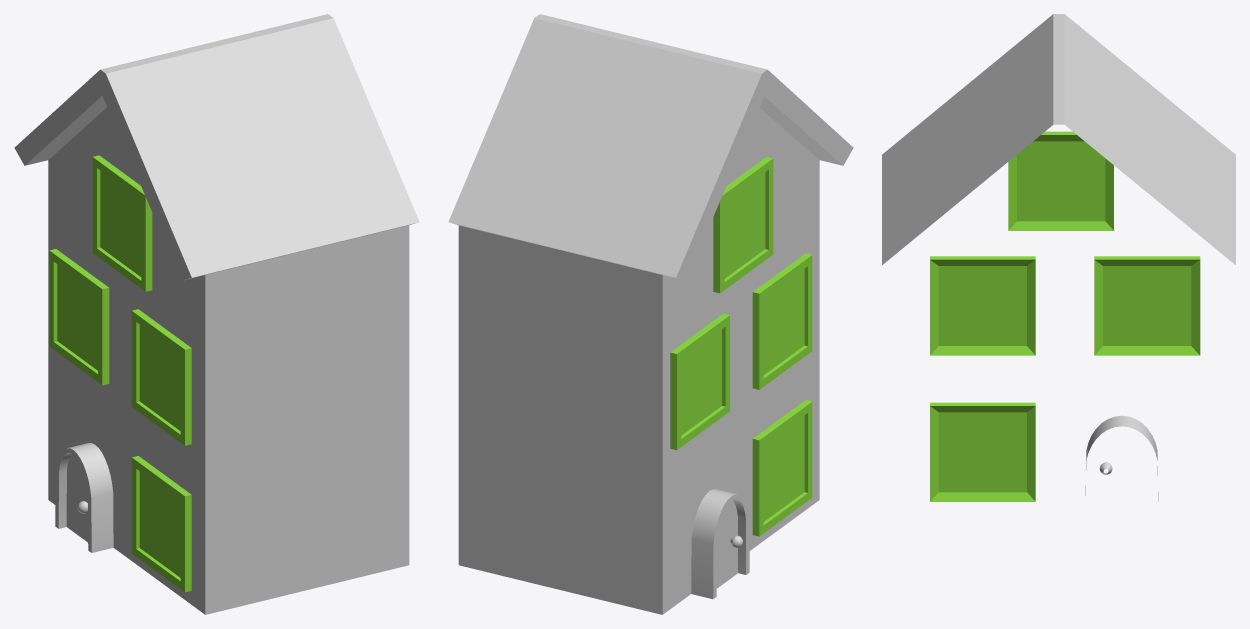
The model's file is House3_Mesh.glb.
3 views of the same model, side by side, from view 1: azimuth 30°, elevation 25°; view 2: azimuth 150°, elevation 25°; view 3: azimuth 270°, elevation 25° (orthographic).
Parts seen in each view (by area): view 1: Cube.057, Window.005, Window.004, Window.006, Window.007, Cylinder.004; view 2: Cube.057, Window.004, Window.005, Window.006, Window.007, Cylinder.004; view 3: Cube.057, Window.006, Window.004, Window.005, Window.007, Cylinder.004.
Part boxes in pixels (x1,y1,x2,y2): Cube.057: (14, 14, 419, 614); Window.005: (131, 309, 191, 445); Window.004: (131, 456, 191, 592); Window.006: (49, 249, 109, 385); Window.007: (92, 155, 152, 291); Cylinder.004: (55, 443, 113, 552); Cube.057: (448, 14, 853, 614); Window.004: (752, 400, 812, 536); Window.005: (752, 253, 812, 389); Window.006: (670, 313, 729, 450); Window.007: (713, 157, 773, 293); Cylinder.004: (691, 489, 749, 599); Cube.057: (882, 14, 1235, 264); Window.006: (1094, 256, 1200, 355); Window.004: (930, 402, 1035, 501); Window.005: (930, 256, 1035, 355); Window.007: (1008, 131, 1113, 230); Cylinder.004: (1085, 415, 1158, 501).
Bounding box in the file's own units: 14.83 × 30.44 × 19.93.
